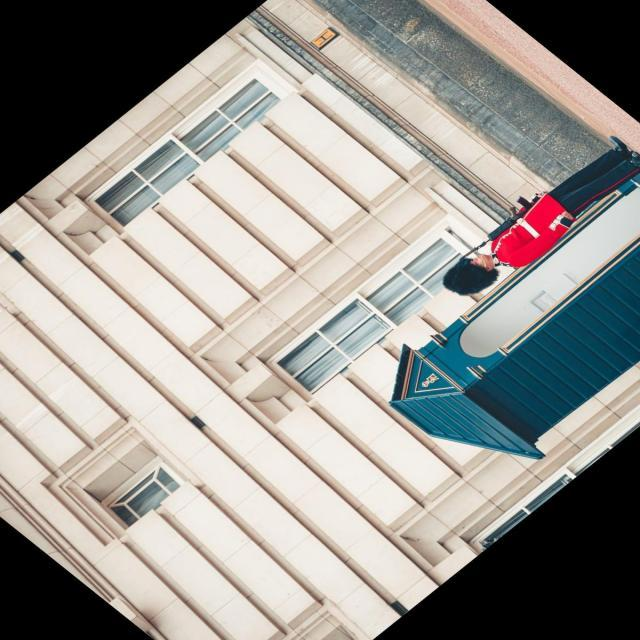weapon: (458, 190, 544, 260)
